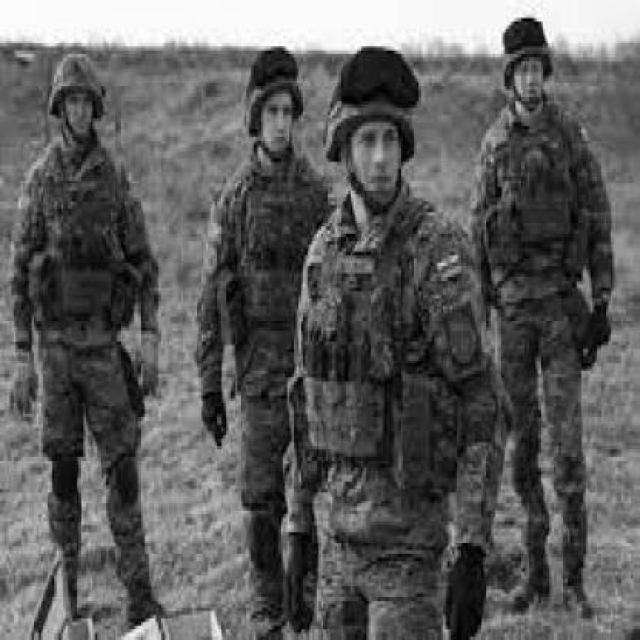Person: (278, 41, 513, 638), (7, 50, 173, 638), (466, 13, 615, 618), (192, 42, 336, 638)
